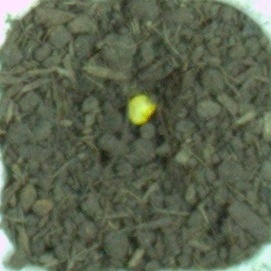pepper seed: (47, 31, 206, 157)
